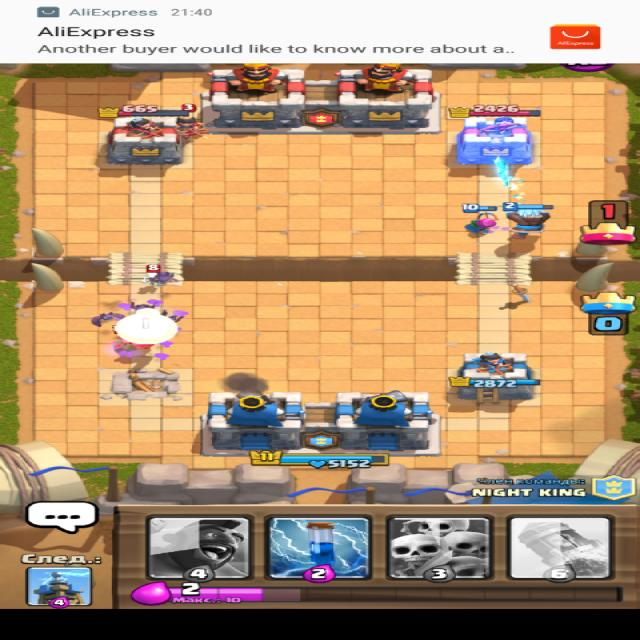Enemy-MiniPEKKA: (109, 324, 155, 350)
Enemy-Princess: (171, 102, 209, 140)
Enemy-Skeleton: (138, 263, 162, 287)
Player-Archer: (458, 203, 498, 235)
Player-Bat: (144, 270, 181, 285), (88, 311, 123, 326), (157, 308, 187, 324), (128, 300, 155, 310)
Player-IceWizard: (499, 200, 556, 239)
